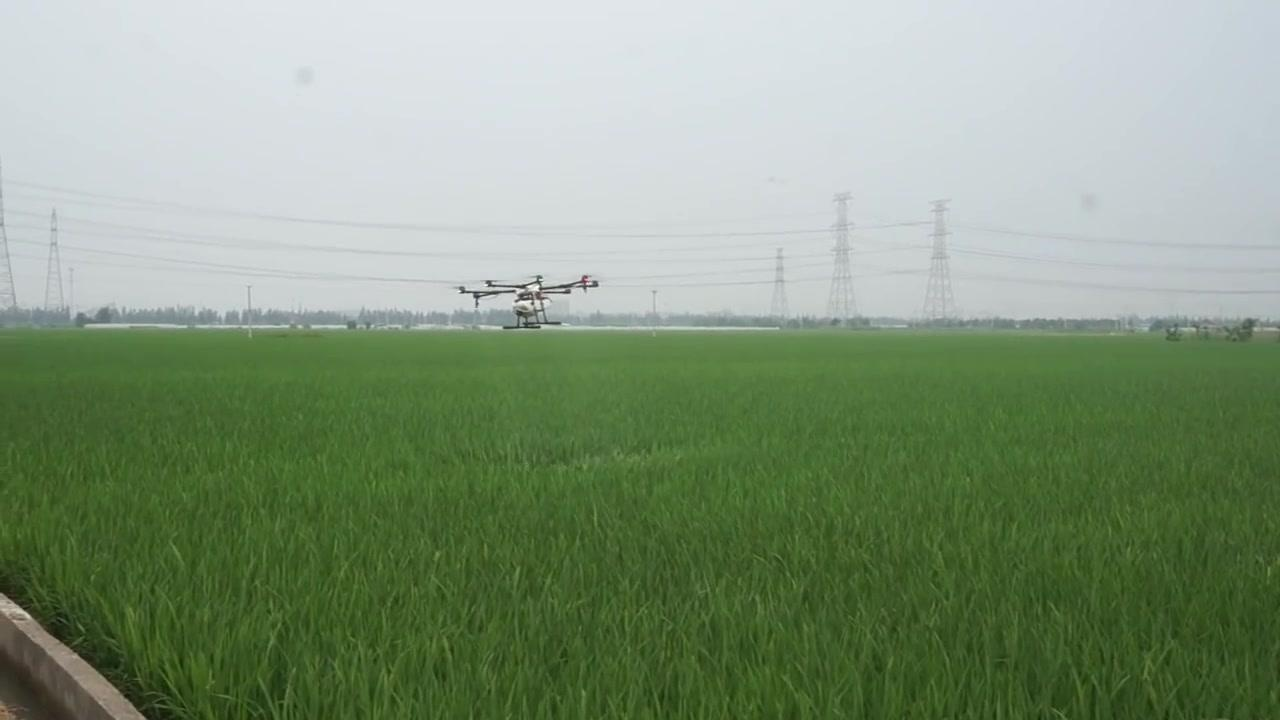UAV: (454, 276, 600, 331)
